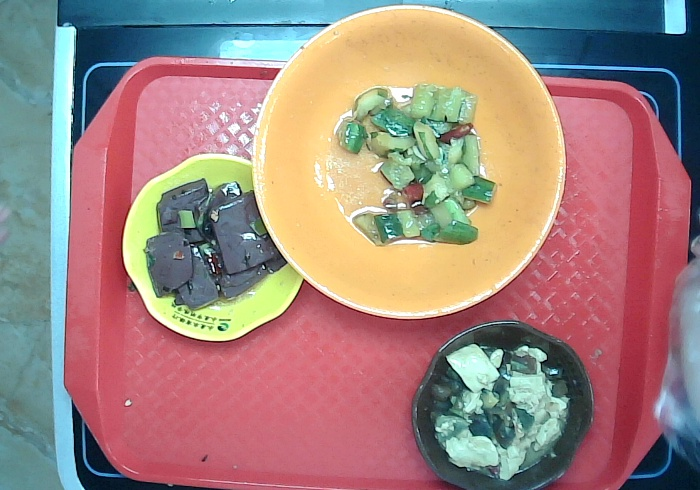YKMZ-Huang_Se_Ao_Bian_Wan: (119, 150, 304, 343)
YKMZ-Ju_Se_Tang_Wan: (249, 4, 568, 322)
YKMZ-Ka_Fei_Ao_Bian_Wan: (409, 322, 596, 490)
